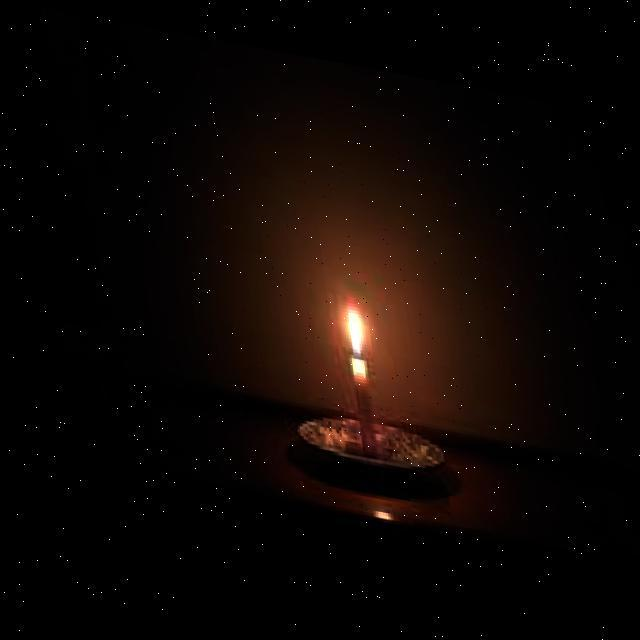Fire: (327, 279, 374, 357)
